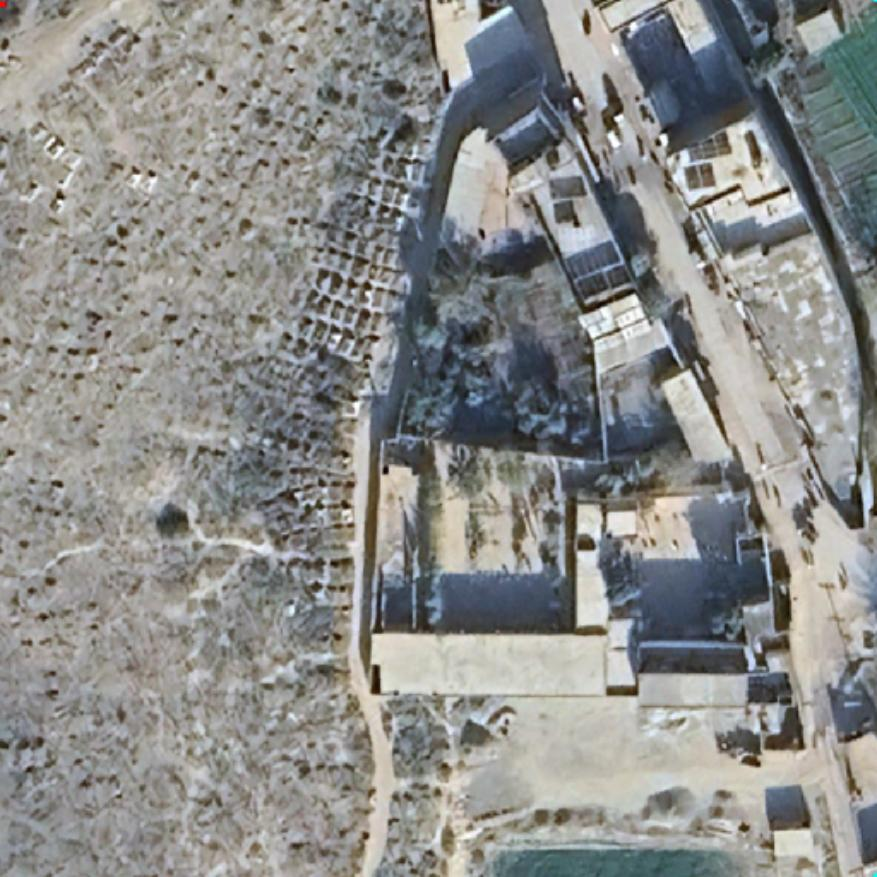Solarpanel: (577, 289, 653, 357), (682, 127, 736, 163), (679, 161, 719, 192), (548, 175, 589, 198), (551, 197, 582, 227)
